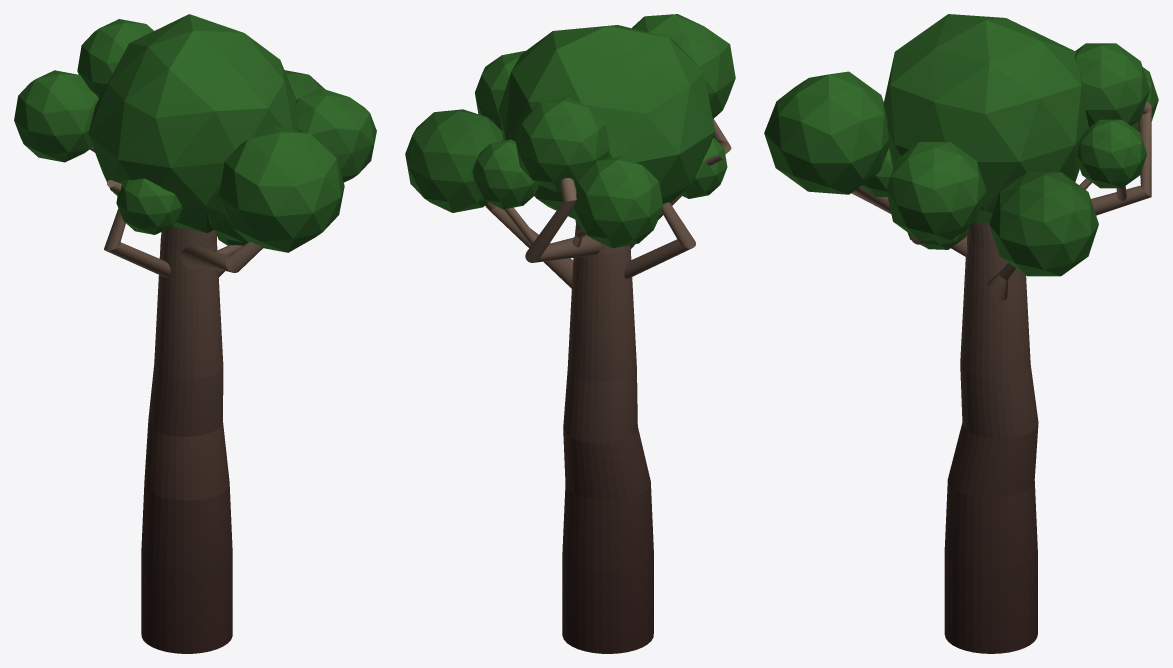
The model's file is env_tree1_AshAllen_v04.glb.
3 views of the same model, side by side, from view 1: azimuth 30°, elevation 25°; view 2: azimuth 150°, elevation 25°; view 3: azimuth 270°, elevation 25° (orthographic).
Visible parts, largest first — view 1: Icosphere.006; view 2: Icosphere.006; view 3: Icosphere.006.
Boxes of the visible parts, <box> form: Icosphere.006: <box>14,14,376,653</box>; Icosphere.006: <box>405,14,735,653</box>; Icosphere.006: <box>764,14,1158,653</box>.
Size of the model in its own units: 8.95 by 18.84 by 10.94.
Materials: 1 (1 with a texture image).
